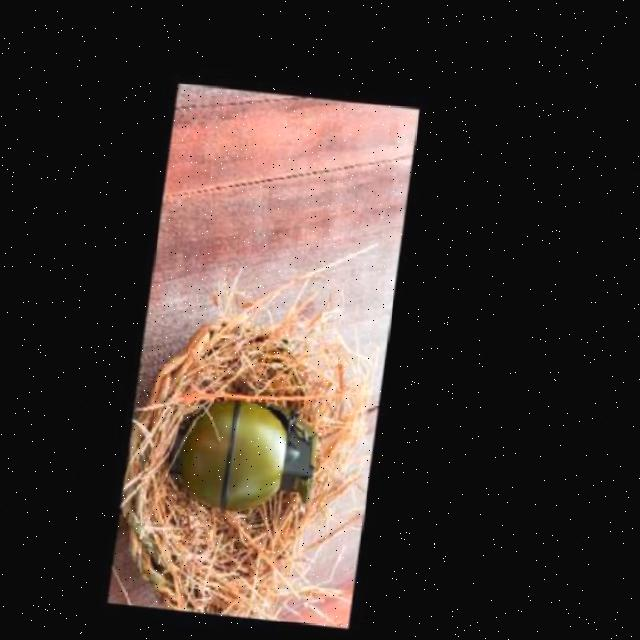grenade: (174, 401, 331, 530)
